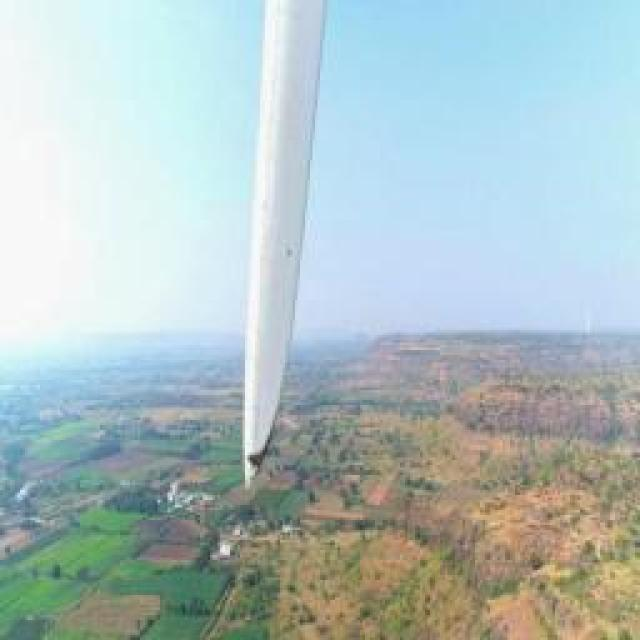Oil LEAKAGE: (251, 410, 285, 469)
Pin Hole: (285, 244, 296, 262)
